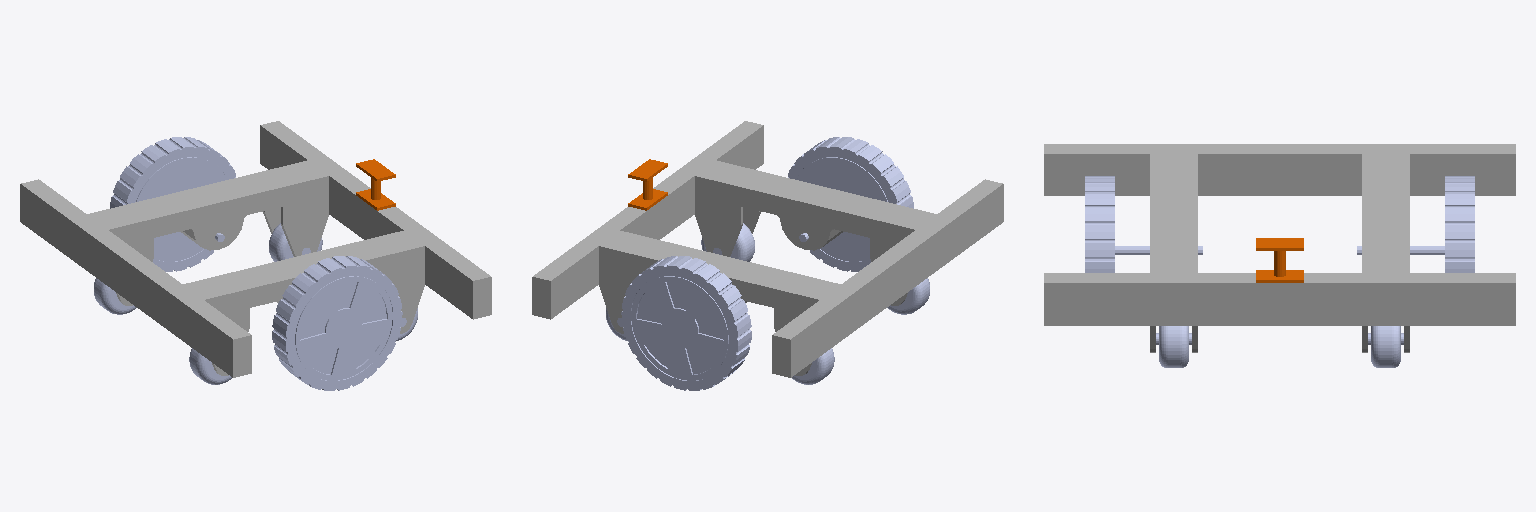
robot.urdf — robot_model_core:
<?xml version="1.0" encoding="utf-8"?>

<robot name="robot_model_core">

  <link name="base_link">
    <inertial>
      <origin xyz="-9.7145E-17 -5.5511E-17 -0.019853" rpy="0 0 0" />
      <mass value="1.2174" />
      <inertia
        ixx="0.013551"
        ixy="1.0803E-17"
        ixz="-6.541E-19"
        iyy="0.013822"
        iyz="2.5594E-19"
        izz="0.026879" />
    </inertial>

    <visual>
      <origin xyz="0 0 0" rpy="0 0 0" />
      <geometry>
        <mesh filename="package://robot_model/meshes/base_link.STL" />
      </geometry>
      <material name="">
        <color rgba="0.75294 0.75294 0.75294 1" />
      </material>
    </visual>

    <collision>
      <origin xyz="0 0 0" rpy="0 0 0" />
      <geometry>
        <mesh filename="package://robot_model/meshes/base_link.STL" />
      </geometry>
    </collision>
  </link>

  <link name="left_wheel_link">
    <inertial>
      <origin xyz="6.1062E-16 0.013537 0" rpy="0 0 0" />
      <mass value="0.3144" />
      <inertia
        ixx="0.00033834"
        ixy="7.173E-19"
        ixz="3.8968E-19"
        iyy="0.0006227"
        iyz="2.0602E-20"
        izz="0.00033834" />
    </inertial>

    <visual>
      <origin xyz="0 -0.0127 0" rpy="0 0 0" />
      <geometry>
        <mesh filename="package://robot_model/meshes/left_wheel_link.STL" />
      </geometry>
      <material name="">
        <color rgba="0.79216 0.81961 0.93333 1" />
      </material>
    </visual>

    <collision>
      <origin xyz="0 -0.0127 0" rpy="0 0 0" />
      <geometry>
        <mesh filename="package://robot_model/meshes/left_wheel_link.STL" />
      </geometry>
    </collision>
  </link>

  <joint name="left_wheel_joint" type="continuous">
    <origin xyz="0 -0.1527 -0.035" rpy="0 0 0" />
    <parent link="base_link" />
    <child link="left_wheel_link" />
    <axis xyz="0 -1 0" />
    <limit effort="1" velocity="1" />
  </joint>

  <link name="right_wheel_link">
    <inertial>
      <origin xyz="1.6653E-16 -0.013537 -2.7756E-17" rpy="0 0 0" />
      <mass value="0.3144" />
      <inertia
        ixx="0.00033834"
        ixy="-1.4697E-18"
        ixz="-1.8425E-19"
        iyy="0.0006227"
        iyz="-3.955E-21"
        izz="0.00033834" />
    </inertial>

    <visual>
      <origin xyz="0 0.0127 0" rpy="0 0 0" />
      <geometry>
        <mesh filename="package://robot_model/meshes/right_wheel_link.STL" />
      </geometry>
      <material name="">
        <color rgba="0.79216 0.81961 0.93333 1" />
      </material>
    </visual>

    <collision>
      <origin xyz="0 0.0127 0" rpy="0 0 0" />
      <geometry>
        <mesh
          filename="package://robot_model/meshes/right_wheel_link.STL" />
      </geometry>
    </collision>
  </link>

  <joint name="right_wheel_joint" type="continuous">
    <origin xyz="0 0.1527 -0.035" rpy="0 0 0" />
    <parent link="base_link" />
    <child link="right_wheel_link" />
    <axis xyz="0 -1 0" />
    <limit effort="1" velocity="1" />
  </joint>


  <!-- FL -->
  <link name="fl_caster_link">
    <inertial>
      <origin xyz="2.7756E-17 0.0125 0" rpy="0 0 0" />
      <mass value="0.047169" />
      <inertia
        ixx="9.3192E-06"
        ixy="5.9932E-21"
        ixz="2.812E-41"
        iyy="1.3638E-05"
        iyz="1.1918E-38"
        izz="9.3192E-06" />
    </inertial>

    <visual>
      <origin xyz="0 -0.0125 0" rpy="0 0 0" />
      <geometry>
        <mesh
          filename="package://robot_model/meshes/fl_caster_link.STL" />
      </geometry>
      <material name="">
        <color rgba="0.79216 0.81961 0.93333 1" />
      </material>
    </visual>

    <collision>
      <origin xyz="0 -0.0125 0" rpy="0 0 0" />
      <geometry>
        <mesh filename="package://robot_model/meshes/fl_caster_link.STL" />
      </geometry>
    </collision>
  </link>

  <joint name="fl_caster_joint" type="continuous">
    <origin xyz="0.095 -0.09 -0.0735" rpy="0 0 0" />
    <parent link="base_link" />
    <child link="fl_caster_link" />
    <axis xyz="0 -1 0" />
    <limit effort="1" velocity="1" />
  </joint>



  <link name="fr_caster_link">
    <inertial>
      <origin xyz="2.7756E-17 0.0125 0" rpy="0 0 0" />
      <mass value="0.047169" />
      <inertia
        ixx="9.3192E-06"
        ixy="5.9888E-21"
        ixz="2.812E-41"
        iyy="1.3638E-05"
        iyz="1.1918E-38"
        izz="9.3192E-06" />
    </inertial>

    <visual>
      <origin xyz="0 0.0125 0" rpy="0 0 0" />
      <geometry>
        <mesh filename="package://robot_model/meshes/fr_caster_link.STL" />
      </geometry>
      <material name="">
        <color rgba="0.79216 0.81961 0.93333 1" />
      </material>
    </visual>

    <collision>
      <origin xyz="0 0.0125 0" rpy="0 0 0" />
      <geometry>
        <mesh filename="package://robot_model/meshes/fr_caster_link.STL" />
      </geometry>
    </collision>
  </link>

  <joint name="fr_caster_joint" type="continuous">
    <origin xyz="0.095 0.09 -0.0735" rpy="0 0 0" />
    <parent link="base_link" />
    <child link="fr_caster_link" />
    <axis xyz="0 -1 0" />
    <limit effort="1" velocity="1" />
  </joint>

  <link name="rl_caster_link">
    <inertial>
      <origin xyz="1.648E-17 0.0125 0" rpy="0 0 0" />
      <mass value="0.047169" />
      <inertia
        ixx="9.3192E-06"
        ixy="5.9888E-21"
        ixz="2.812E-41"
        iyy="1.3638E-05"
        iyz="1.1918E-38"
        izz="9.3192E-06" />
    </inertial>

    <visual>
      <origin xyz="0 -0.0125 0" rpy="0 0 0" />
      <geometry>
        <mesh filename="package://robot_model/meshes/rl_caster_link.STL" />
      </geometry>
      <material name="">
        <color rgba="0.79216 0.81961 0.93333 1" />
      </material>
    </visual>

    <collision>
      <origin xyz="0 -0.0125 0" rpy="0 0 0" />
      <geometry>
        <mesh filename="package://robot_model/meshes/rl_caster_link.STL" />
      </geometry>
    </collision>
  </link>

  <joint name="rl_caster_joint" type="continuous">
    <origin xyz="-0.095 -0.09 -0.0735" rpy="0 0 0" />
    <parent link="base_link" />
    <child link="rl_caster_link" />
    <axis xyz="0 -1 0" />
    <limit effort="1" velocity="1" />
  </joint>

  <link name="rr_caster_link">
    <inertial>
      <origin xyz="-1.8215E-17 -0.0125 0" rpy="0 0 0" />
      <mass value="0.047169" />
      <inertia
        ixx="9.3192E-06"
        ixy="5.9932E-21"
        ixz="2.812E-41"
        iyy="1.3638E-05"
        iyz="1.1918E-38"
        izz="9.3192E-06" />
    </inertial>

    <visual>
      <origin xyz="0 0.0125 0" rpy="0 0 0" />
      <geometry>
        <mesh filename="package://robot_model/meshes/rr_caster_link.STL" />
      </geometry>
      <material name="">
        <color rgba="0.79216 0.81961 0.93333 1" />
      </material>
    </visual>

    <collision>
      <origin xyz="0 0.0125 0" rpy="0 0 0" />
      <geometry>
        <mesh filename="package://robot_model/meshes/rr_caster_link.STL" />
      </geometry>
    </collision>
  </link>

  <joint name="rr_caster_joint" type="continuous">
    <origin xyz="-0.095 0.09 -0.0735" rpy="0 0 0" />
    <parent link="base_link" />
    <child  link="rr_caster_link" />
    <axis xyz="0 -1 0" />
    <limit effort="1" velocity="1" />
  </joint>

  <link name="cam_base_link">
    <inertial>
      <origin xyz="-2.7756E-17 0 -0.0165" rpy="0 0 0" />
      <mass value="0.0069206" />
      <inertia
        ixx="1.8657E-06"
        ixy="-6.5702E-22"
        ixz="-2.5849E-23"
        iyy="1.3857E-06"
        iyz="-1.4208E-22"
        izz="8.2651E-07" />
    </inertial>

    <visual>
      <origin xyz="0 0 0" rpy="0 0 0" />
      <geometry>
        <mesh filename="package://robot_model/meshes/cam_base_link.STL" />
      </geometry>
      <material name="">
        <color rgba="0.9098 0.44314 0.031373 1" />
      </material>
    </visual>

    <collision>
      <origin xyz="0 0 0" rpy="0 0 0" />
      <geometry>
        <mesh filename="package://robot_model/meshes/cam_base_link.STL" />
      </geometry>
    </collision>
  </link>

  <joint name="cam_base_joint" type="fixed">
    <origin xyz="0.13 0 0.033" rpy="0 0 0" />
    <parent link="base_link" />
    <child link="cam_base_link" />
    <axis xyz="0 0 0" />
  </joint>
</robot>

--- What the picture shows (computed from the rendered views, not written in the file) ---
Views: 3 orthographic renders of the robot side by side, from view 1: azimuth 30°, elevation 25°; view 2: azimuth 150°, elevation 25°; view 3: azimuth 270°, elevation 25°.
Model robot_model_core with 8 links and 7 joints (6 continuous, 1 fixed), rooted at base_link, posed every joint at zero.
Links seen in each view (by area): view 1: base_link, left_wheel_link, right_wheel_link, cam_base_link, rl_caster_link, rr_caster_link, fr_caster_link; view 2: base_link, right_wheel_link, left_wheel_link, cam_base_link, rr_caster_link, rl_caster_link, fl_caster_link; view 3: base_link, left_wheel_link, right_wheel_link, cam_base_link, fl_caster_link, fr_caster_link.
Link boxes in pixels (x1,y1,x2,y2): base_link: [20, 121, 491, 377]; left_wheel_link: [272, 256, 402, 390]; right_wheel_link: [110, 137, 235, 271]; cam_base_link: [356, 159, 395, 210]; rl_caster_link: [189, 348, 231, 384]; rr_caster_link: [94, 278, 136, 314]; fr_caster_link: [269, 223, 322, 261]; base_link: [532, 121, 1003, 377]; right_wheel_link: [621, 256, 751, 390]; left_wheel_link: [788, 137, 913, 271]; cam_base_link: [628, 159, 667, 210]; rr_caster_link: [792, 348, 834, 384]; rl_caster_link: [887, 278, 929, 314]; fl_caster_link: [701, 223, 754, 261]; base_link: [1044, 144, 1515, 352]; left_wheel_link: [1085, 176, 1202, 272]; right_wheel_link: [1357, 176, 1474, 272]; cam_base_link: [1256, 238, 1303, 282]; fl_caster_link: [1156, 326, 1191, 367]; fr_caster_link: [1368, 326, 1403, 367].
Bounding box of the posed robot: 0.28 × 0.4 × 0.1315 m (x, y, z).
8 mesh visuals loaded from 8 distinct referenced files (8 binary STL).